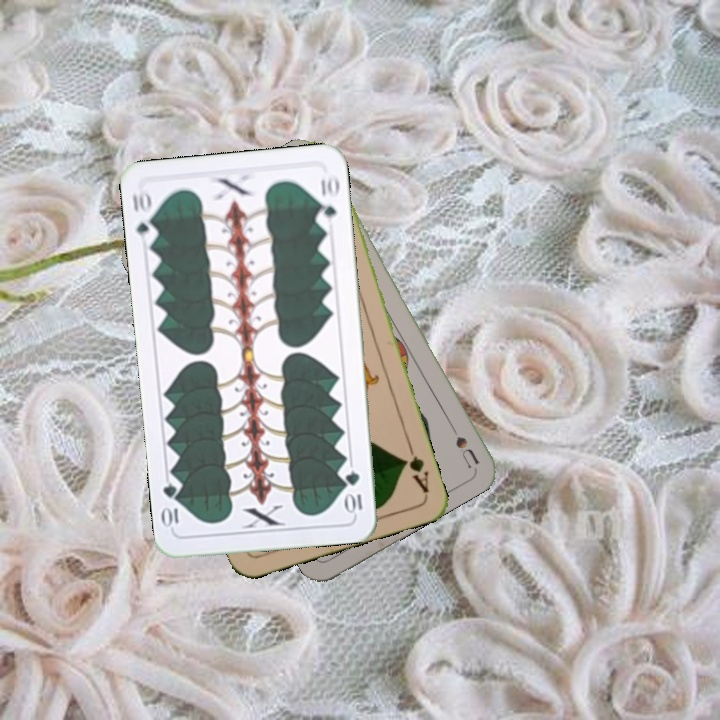G10: (128, 186, 159, 245), (342, 467, 365, 516)
GA: (398, 439, 432, 496)
SU: (442, 413, 482, 470)
